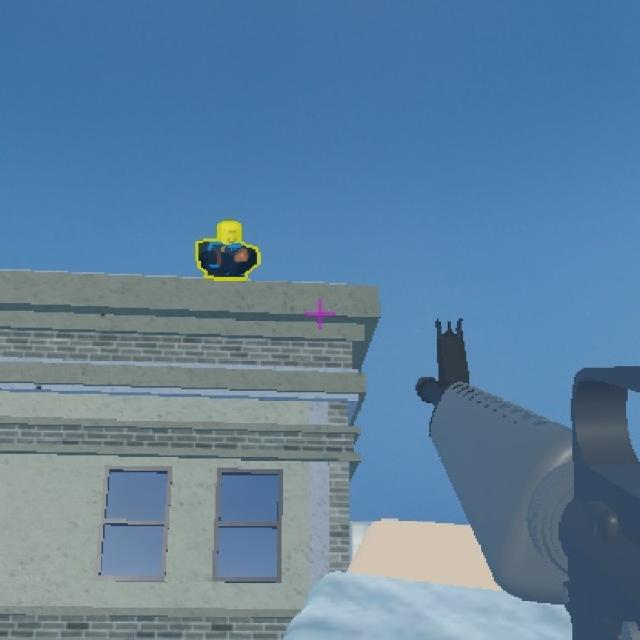player: (194, 218, 253, 283)
